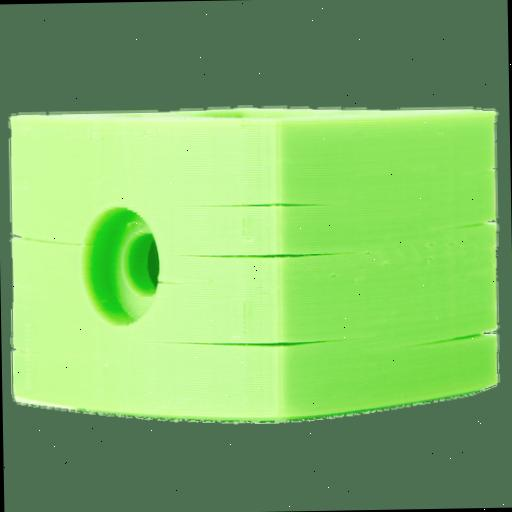cracks: (174, 184, 348, 376), (401, 203, 510, 386), (22, 216, 92, 274)
